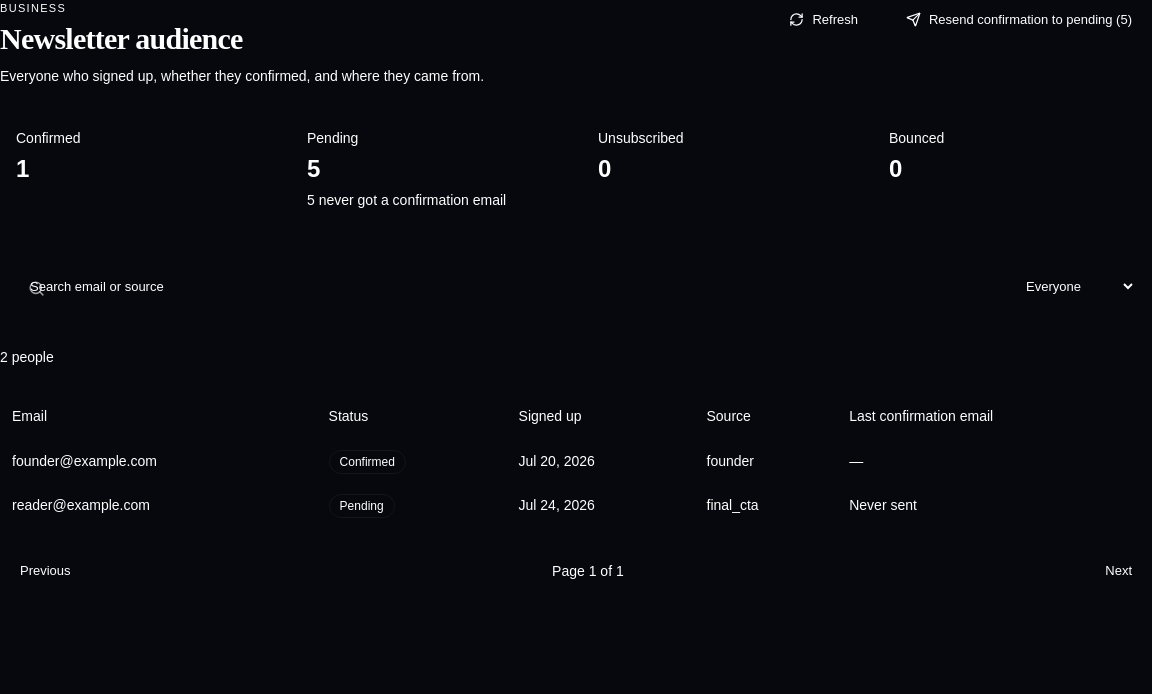
Test: AudienceManager › explains a Resend domain rejection with what to do
Click the button "Resend confirmation to pending (5)".
click(1019, 20)  # box top-left (886, 0), bottom-right (1151, 40)
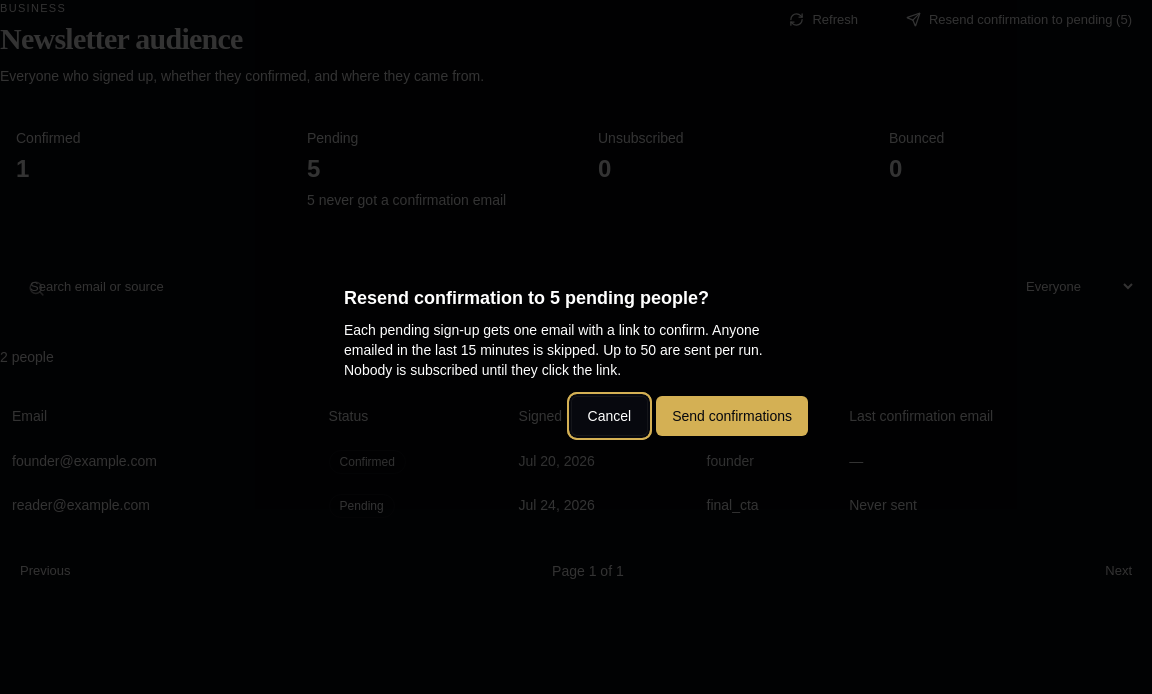
Click the button "Send confirmations".
click(732, 416)  # box top-left (656, 396), bottom-right (808, 436)
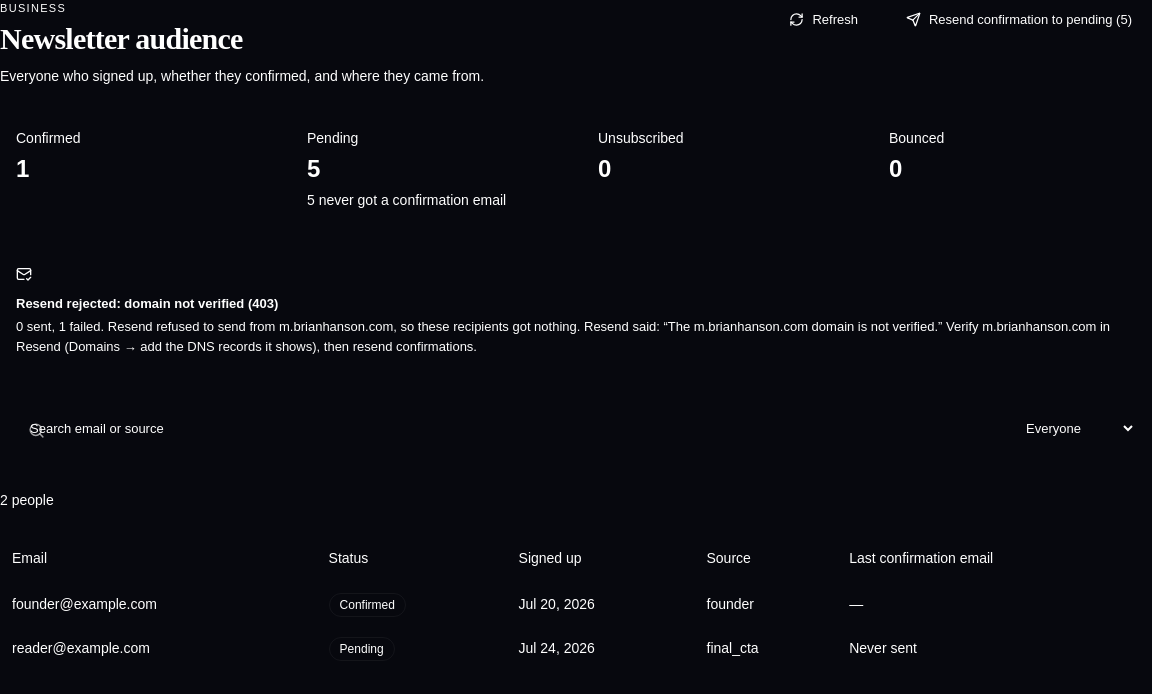
Check: the 1st message shows "Resend rejected: domain not verified (403)", box top-left (16, 296), bottom-right (278, 311)
Check: the 1st message shows "Verify m.brianhanson.com in Resend", box top-left (16, 319), bottom-right (1110, 354)
Check: the 1st message shows "resend confirmations", box top-left (16, 319), bottom-right (1110, 354)
